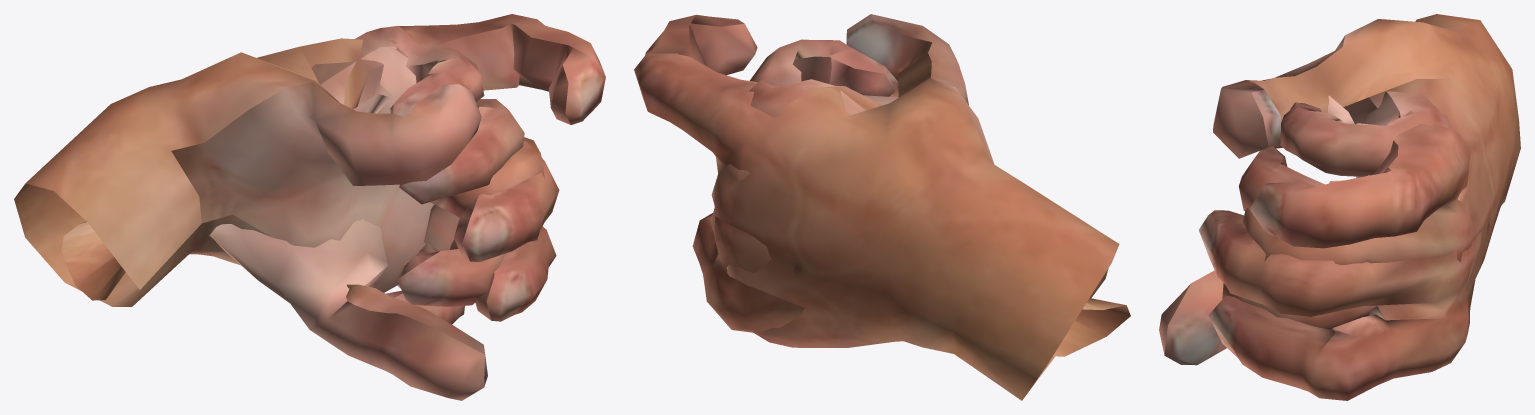
File: Model_FpsArmsNra01.glb
3 views of the same model, side by side, from view 1: azimuth 30°, elevation 25°; view 2: azimuth 150°, elevation 25°; view 3: azimuth 270°, elevation 25° (orthographic). The views are drawn at different scales.
Visible parts, largest first — view 1: HandRight, HandLeft; view 2: HandRight, HandLeft; view 3: HandRight, HandLeft.
Part boxes in pixels (box(x1,y1,x2,y2)): HandRight: box(14, 14, 605, 324); HandLeft: box(61, 25, 559, 400); HandRight: box(634, 14, 1119, 400); HandLeft: box(692, 39, 1130, 356); HandRight: box(1213, 14, 1520, 329); HandLeft: box(1159, 91, 1481, 400).
Size of the model in its own units: 0.2086 by 0.1124 by 0.1262.
1 material, 1 textured.
